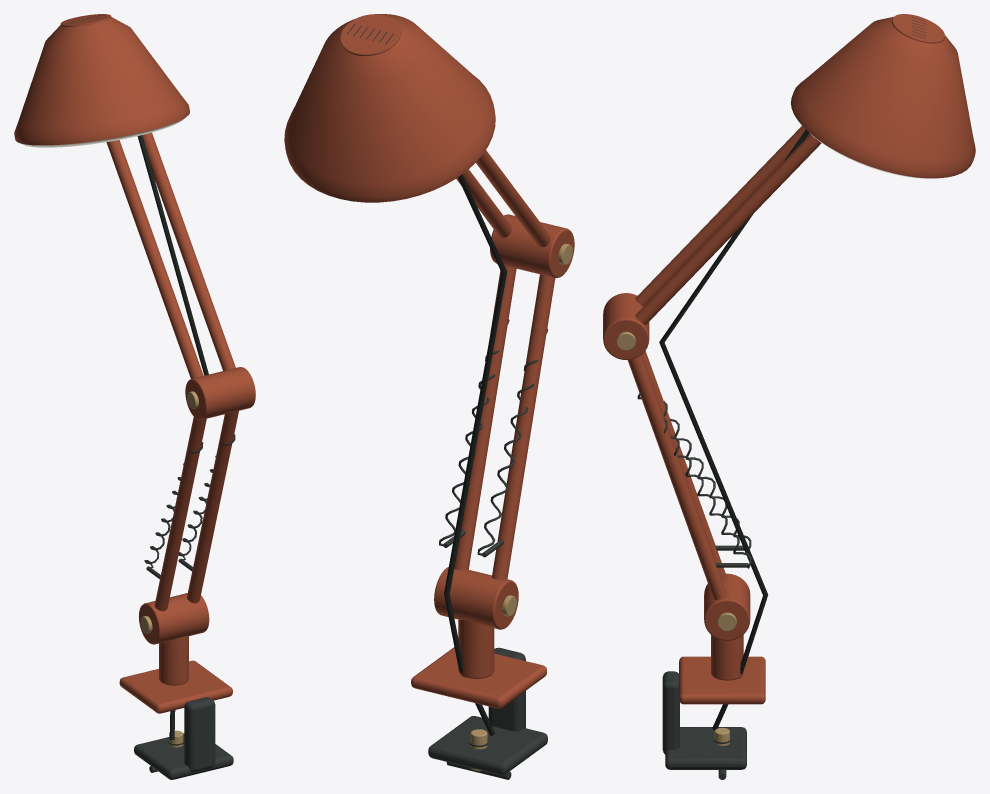
File: lamp.glb
The picture shows the model from 3 angles, left to right: view 1: azimuth 30°, elevation 25°; view 2: azimuth 150°, elevation 25°; view 3: azimuth 270°, elevation 25°; orthographic projection. The views are drawn at different scales.
Visible parts, largest first — view 1: lamp / Oxide red enamel, lamp / Warm graphite steel, lamp / Soft black feet, lamp / Brushed warm brass, lamp / Ivory reflector; view 2: lamp / Oxide red enamel, lamp / Warm graphite steel, lamp / Soft black feet, lamp / Brushed warm brass; view 3: lamp / Oxide red enamel, lamp / Warm graphite steel, lamp / Soft black feet, lamp / Brushed warm brass.
Boxes of the visible parts, x1=… form: lamp / Oxide red enamel: x1=14, y1=14, x2=255, y2=713; lamp / Warm graphite steel: x1=67, y1=15, x2=235, y2=779; lamp / Soft black feet: x1=137, y1=135, x2=208, y2=739; lamp / Brushed warm brass: x1=140, y1=391, x2=198, y2=747; lamp / Ivory reflector: x1=19, y1=117, x2=185, y2=147; lamp / Oxide red enamel: x1=284, y1=14, x2=574, y2=708; lamp / Warm graphite steel: x1=347, y1=24, x2=547, y2=779; lamp / Soft black feet: x1=444, y1=174, x2=506, y2=735; lamp / Brushed warm brass: x1=470, y1=243, x2=572, y2=771; lamp / Oxide red enamel: x1=603, y1=14, x2=975, y2=704; lamp / Warm graphite steel: x1=637, y1=17, x2=925, y2=779; lamp / Soft black feet: x1=659, y1=129, x2=808, y2=730; lamp / Brushed warm brass: x1=616, y1=331, x2=736, y2=745.
Size of the model in its own units: 0.2 by 0.8564 by 0.3875.
